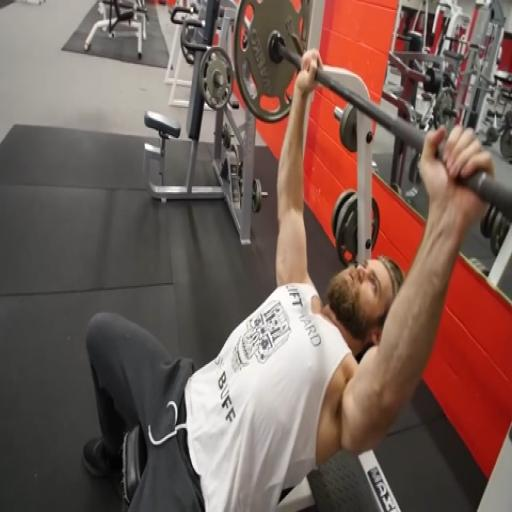exercise: (80, 48, 496, 510)
